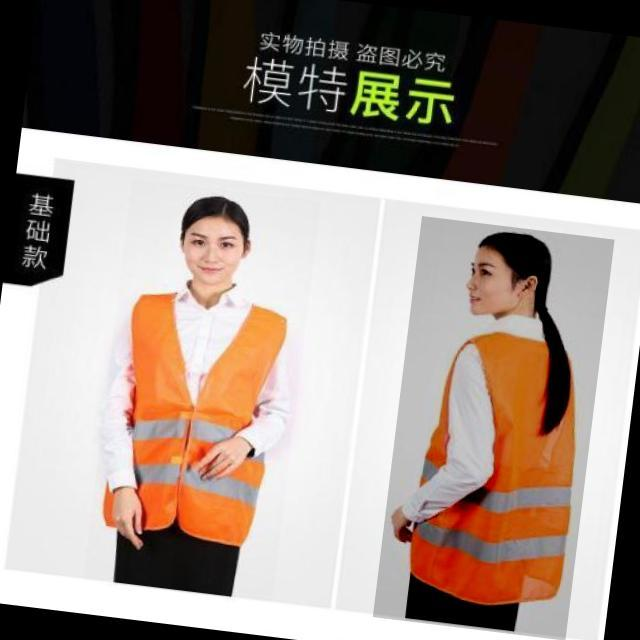Person: (394, 193, 598, 629), (86, 173, 295, 595)
Safety Vest: (393, 330, 591, 609), (104, 284, 287, 547)
bare-arms: (198, 429, 242, 491), (103, 484, 145, 539), (398, 499, 423, 544)
no-helmet: (475, 226, 551, 267), (176, 198, 252, 225)
